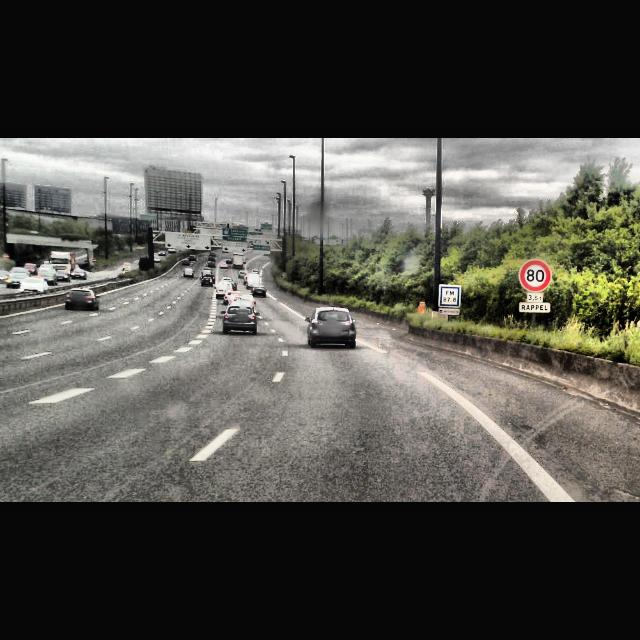speed_80: (521, 260, 551, 292)
